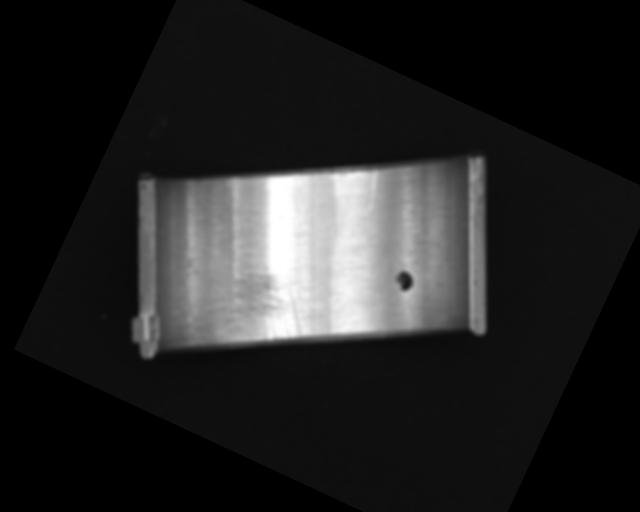blot: (391, 268, 417, 294)
nick: (358, 169, 386, 210)
scratch: (191, 250, 322, 383)
